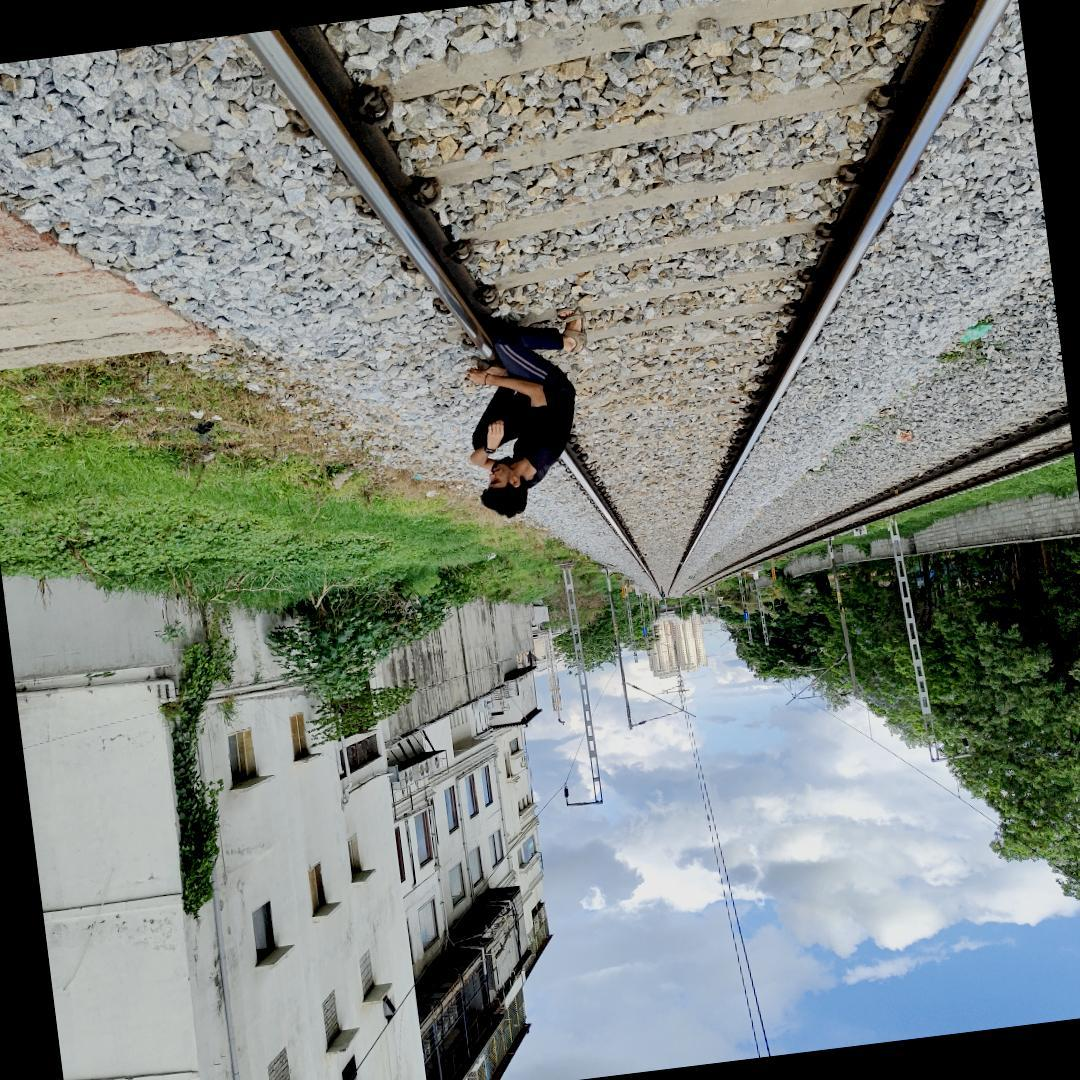sitting: (434, 298, 619, 529)
